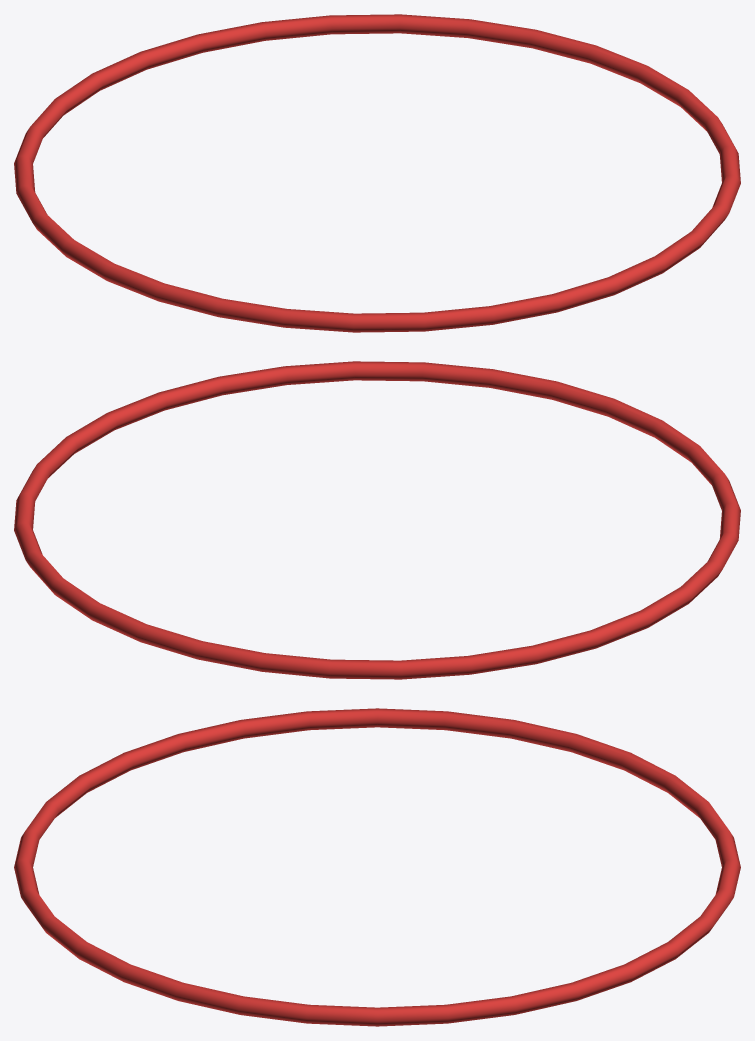
Rendered from Hulahoop_01.fbx.
3 renders of one model, top to bottom at view 1: azimuth 30°, elevation 25°; view 2: azimuth 150°, elevation 25°; view 3: azimuth 270°, elevation 25°, orthographic.
Parts seen in each view (by area): view 1: Hulahoop_01; view 2: Hulahoop_01; view 3: Hulahoop_01.
Boxes of the visible parts, box(x1,y1,x2,y2) form: Hulahoop_01: box(14, 14, 740, 332); Hulahoop_01: box(14, 361, 740, 679); Hulahoop_01: box(14, 708, 740, 1026).
Size of the model in its own units: 1.34 by 0.0305 by 1.34.
